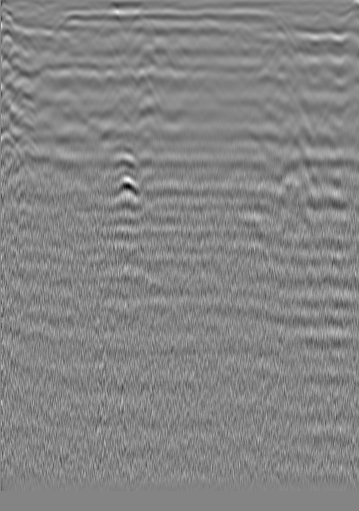가스: (107, 169, 147, 202)
상수: (13, 32, 33, 52)
오수: (290, 32, 310, 52)
우수: (166, 23, 186, 43)
